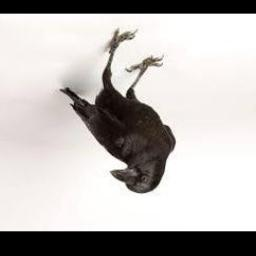Crow: (60, 27, 177, 195)
